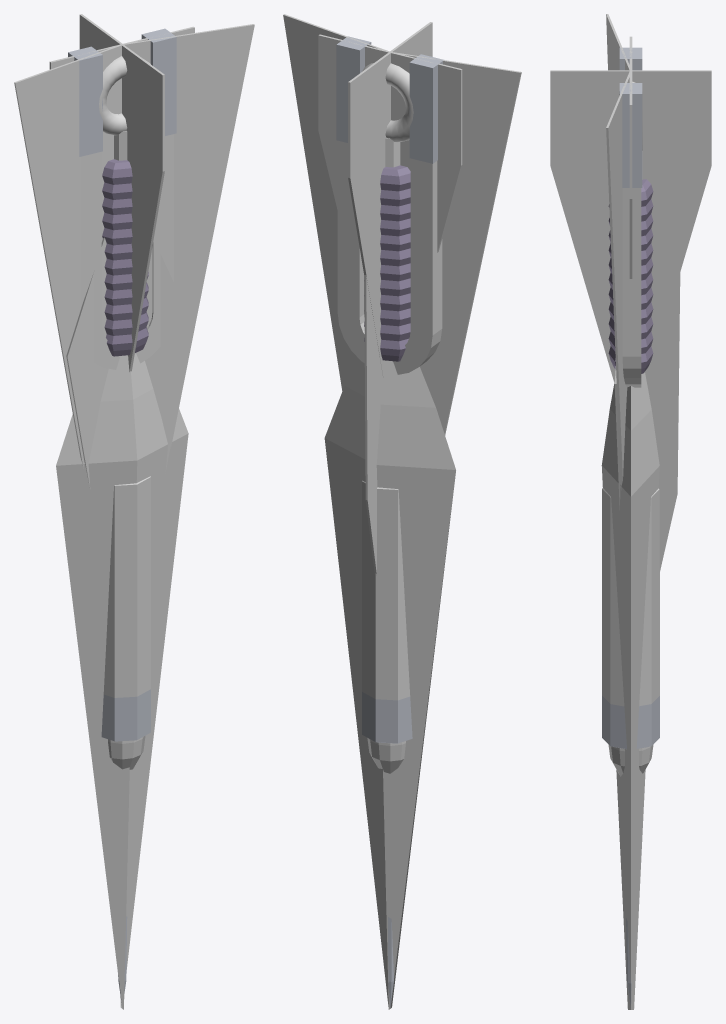
Rendered from darts.glb.
3 views of the same model, side by side, from view 1: azimuth 30°, elevation 25°; view 2: azimuth 150°, elevation 25°; view 3: azimuth 270°, elevation 25° (orthographic). The views are drawn at different scales.
Visible parts, largest first — view 1: hvy_00, lgt_04, lgt_00, mag_00, std_02, mag_06, hvy_01, mag_01, mag_03, mag_02, hvy_03, std_00; view 2: hvy_00, lgt_04, mag_06, mag_00, std_02, std_01, hvy_01, lgt_02, mag_01, mag_03, mag_02, hvy_03 (+1 smaller); view 3: std_02, hvy_00, mag_00, lgt_02, lgt_04, mag_06, hvy_01, mag_02, mag_03, std_01, std_00, mag_01.
Part boxes in pixels (x1=…): hvy_00: x1=56, y1=353, x2=188, y2=1009; lgt_04: x1=14, y1=24, x2=254, y2=468; lgt_00: x1=66, y1=237, x2=193, y2=488; mag_00: x1=103, y1=476, x2=150, y2=697; std_02: x1=79, y1=14, x2=164, y2=371; mag_06: x1=81, y1=134, x2=173, y2=369; hvy_01: x1=102, y1=159, x2=148, y2=356; mag_01: x1=68, y1=46, x2=102, y2=156; mag_03: x1=101, y1=689, x2=150, y2=741; mag_02: x1=141, y1=28, x2=176, y2=135; hvy_03: x1=99, y1=56, x2=150, y2=135; std_00: x1=108, y1=736, x2=145, y2=769; hvy_00: x1=324, y1=358, x2=455, y2=1009; lgt_04: x1=283, y1=14, x2=521, y2=435; mag_06: x1=337, y1=140, x2=442, y2=374; mag_00: x1=362, y1=480, x2=410, y2=700; std_02: x1=348, y1=22, x2=432, y2=376; std_01: x1=318, y1=34, x2=462, y2=316; hvy_01: x1=364, y1=165, x2=410, y2=361; lgt_02: x1=363, y1=52, x2=390, y2=574; mag_01: x1=409, y1=54, x2=443, y2=163; mag_03: x1=362, y1=692, x2=412, y2=743; mag_02: x1=336, y1=36, x2=371, y2=142; hvy_03: x1=362, y1=63, x2=413, y2=142; std_02: x1=550, y1=70, x2=711, y2=383; hvy_00: x1=601, y1=372, x2=659, y2=1009; mag_00: x1=602, y1=488, x2=659, y2=706; lgt_02: x1=632, y1=70, x2=681, y2=572; lgt_04: x1=606, y1=14, x2=631, y2=490; mag_06: x1=622, y1=188, x2=641, y2=387; hvy_01: x1=608, y1=179, x2=653, y2=373; mag_02: x1=619, y1=83, x2=642, y2=187; mag_03: x1=602, y1=696, x2=659, y2=749; std_01: x1=629, y1=36, x2=632, y2=278; std_00: x1=608, y1=744, x2=653, y2=776; mag_01: x1=619, y1=47, x2=642, y2=70.
Bounding box in the file's own units: 0.26 × 1 × 0.156.
